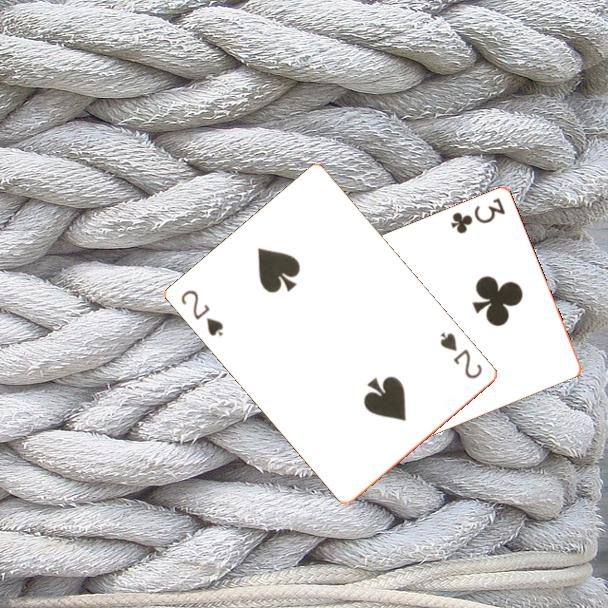c03: (447, 194, 508, 237)
s02: (437, 329, 486, 382), (178, 286, 227, 339)
